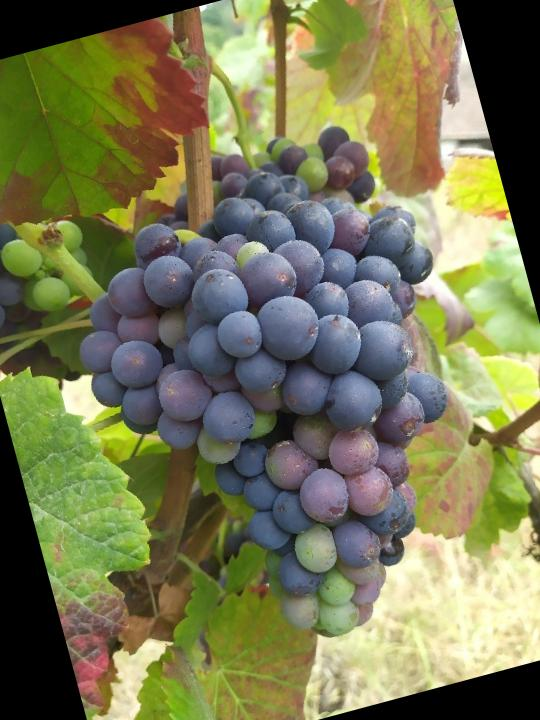grape: (48, 149, 521, 681)
